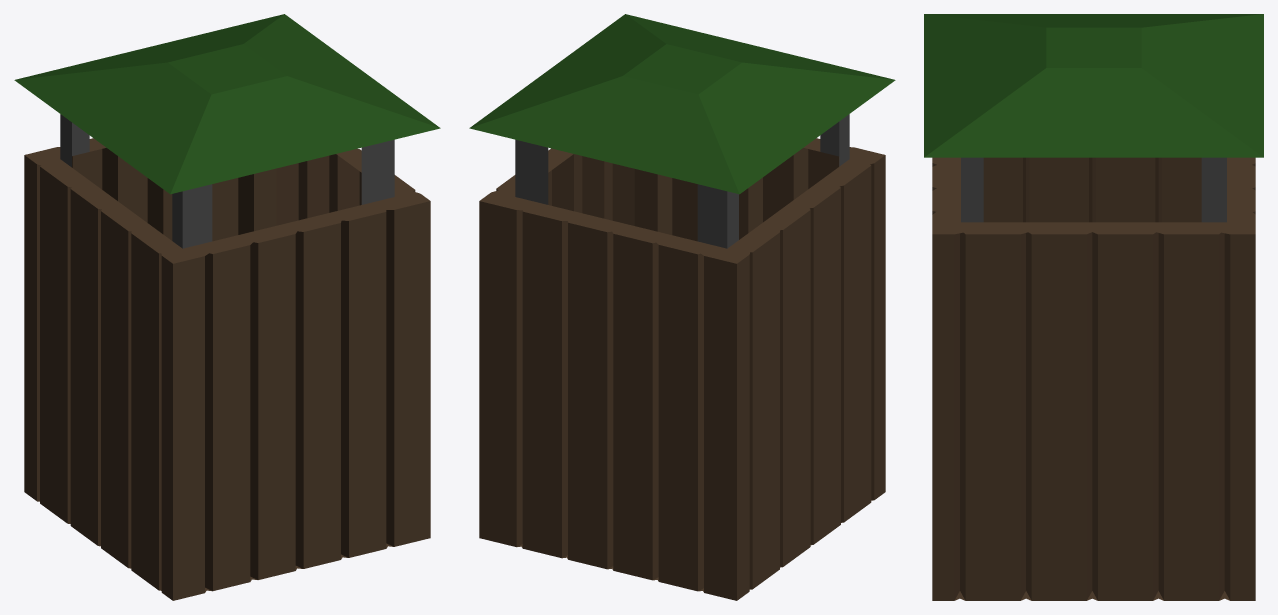
The model's file is TrashCan.fbx.
3 views of the same model, side by side, from view 1: azimuth 30°, elevation 25°; view 2: azimuth 150°, elevation 25°; view 3: azimuth 270°, elevation 25° (orthographic). The views are drawn at different scales.
Parts seen in each view (by area): view 1: Cube, Cube.001, Cube.002; view 2: Cube, Cube.001, Cube.002; view 3: Cube, Cube.001, Cube.002.
Boxes of the visible parts, <box> form: Cube: <box>24,138,430,600</box>; Cube.001: <box>14,14,440,194</box>; Cube.002: <box>60,114,394,248</box>; Cube: <box>479,138,885,600</box>; Cube.001: <box>469,14,895,194</box>; Cube.002: <box>515,114,849,248</box>; Cube: <box>932,157,1255,600</box>; Cube.001: <box>924,14,1263,157</box>; Cube.002: <box>961,157,1226,222</box>.
Size of the model in its own units: 210 by 331 by 210.
